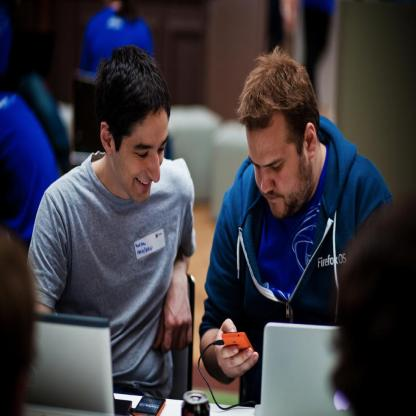board: (23, 315, 133, 415), (256, 316, 348, 410), (179, 387, 212, 416)
